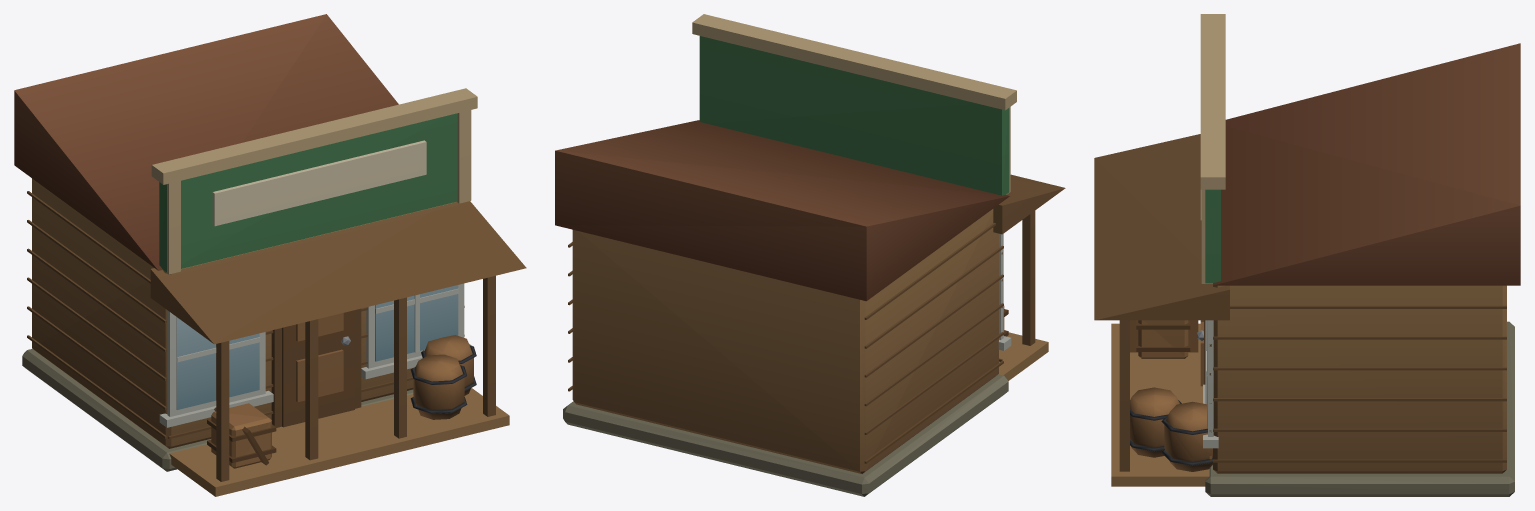
The model's file is bld-general-store-01.glb.
3 renders of one model, left to right at view 1: azimuth 30°, elevation 25°; view 2: azimuth 150°, elevation 25°; view 3: azimuth 270°, elevation 25°, orthographic. The views are drawn at different scales.
Visible parts, largest first — view 1: bld_general_store_01; view 2: bld_general_store_01; view 3: bld_general_store_01.
Boxes of the visible parts, x1=… form: bld_general_store_01: x1=14, y1=14, x2=526, y2=496; bld_general_store_01: x1=555, y1=14, x2=1065, y2=496; bld_general_store_01: x1=1094, y1=14, x2=1520, y2=496.
Size of the model in its own units: 3.42 by 3.16 by 3.77.
